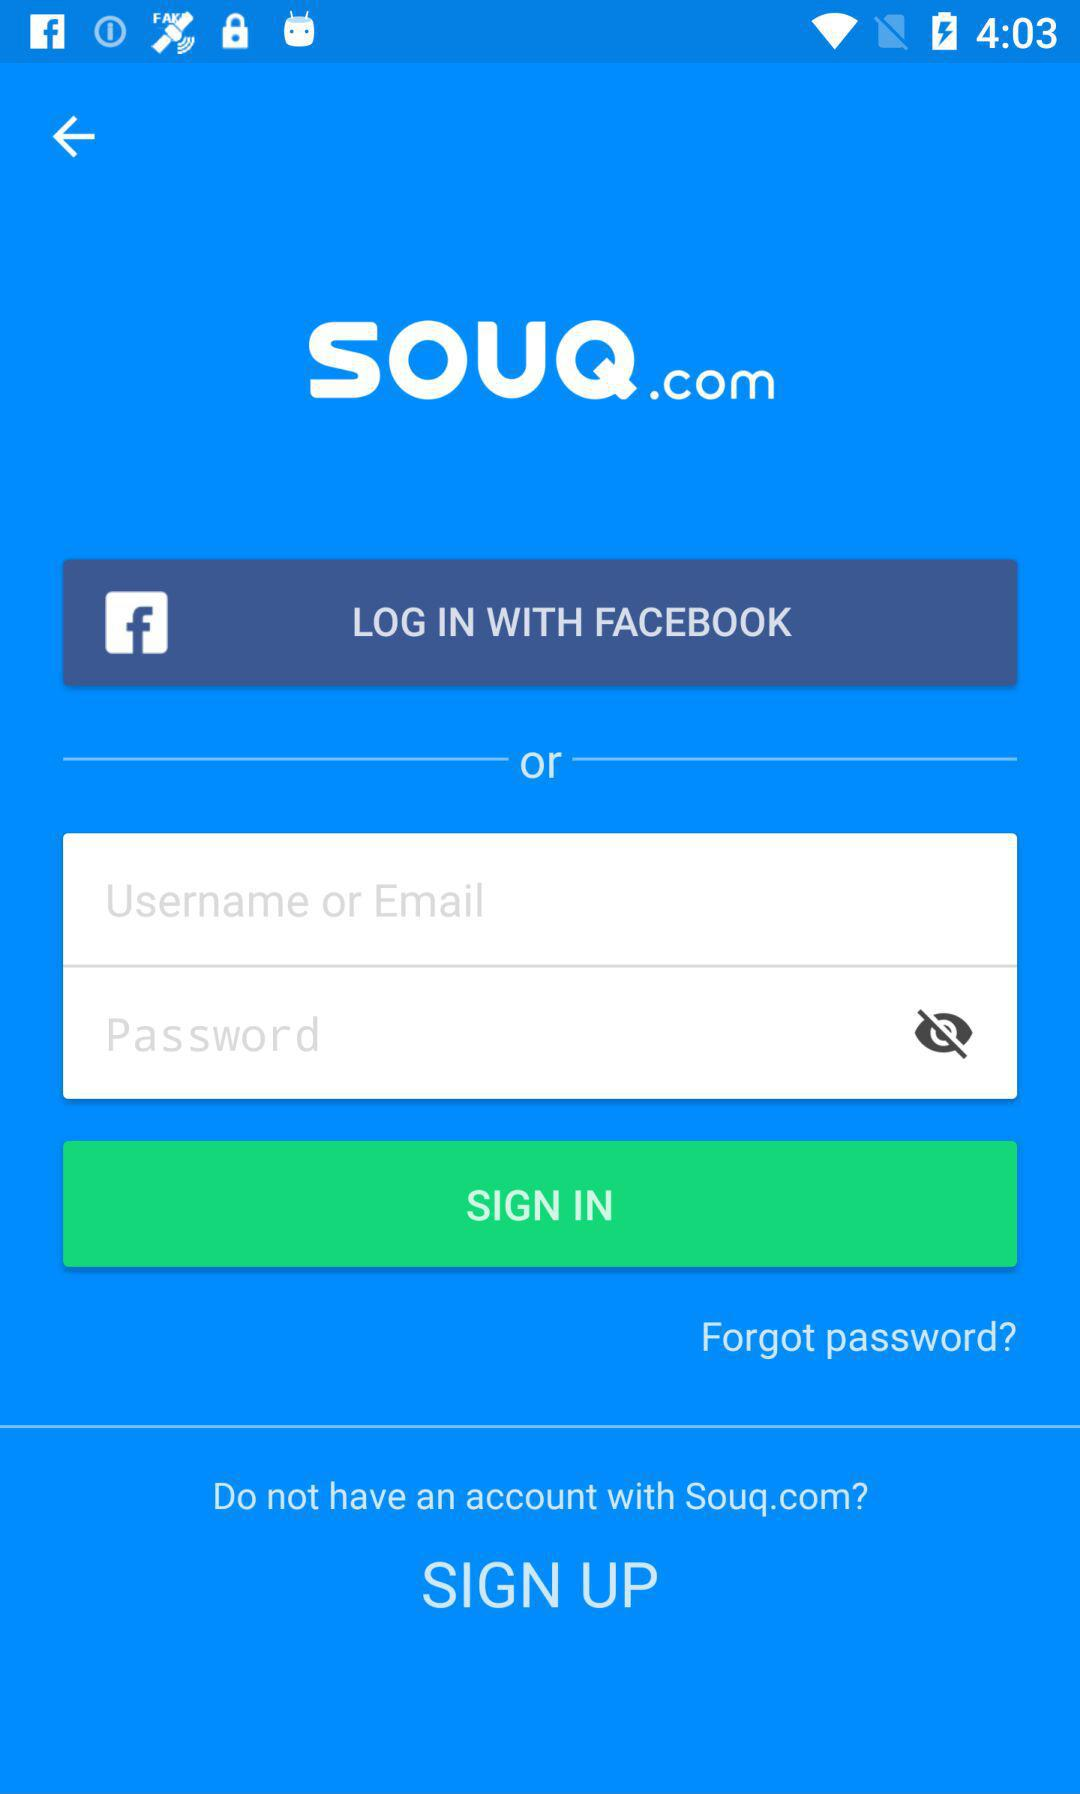EditText: (63, 832, 1019, 969), (63, 964, 1019, 1099)
Icon: (913, 1008, 974, 1060), (53, 117, 97, 160)
Image: (309, 322, 775, 402)
Text: (214, 1480, 869, 1518), (108, 882, 484, 919), (703, 1320, 1017, 1360), (423, 1561, 659, 1609), (109, 1016, 320, 1055), (520, 751, 562, 780)
TextButton: (63, 1140, 1019, 1269), (64, 560, 1019, 687)
UpperTaskBar: (1, 1, 1080, 64)
